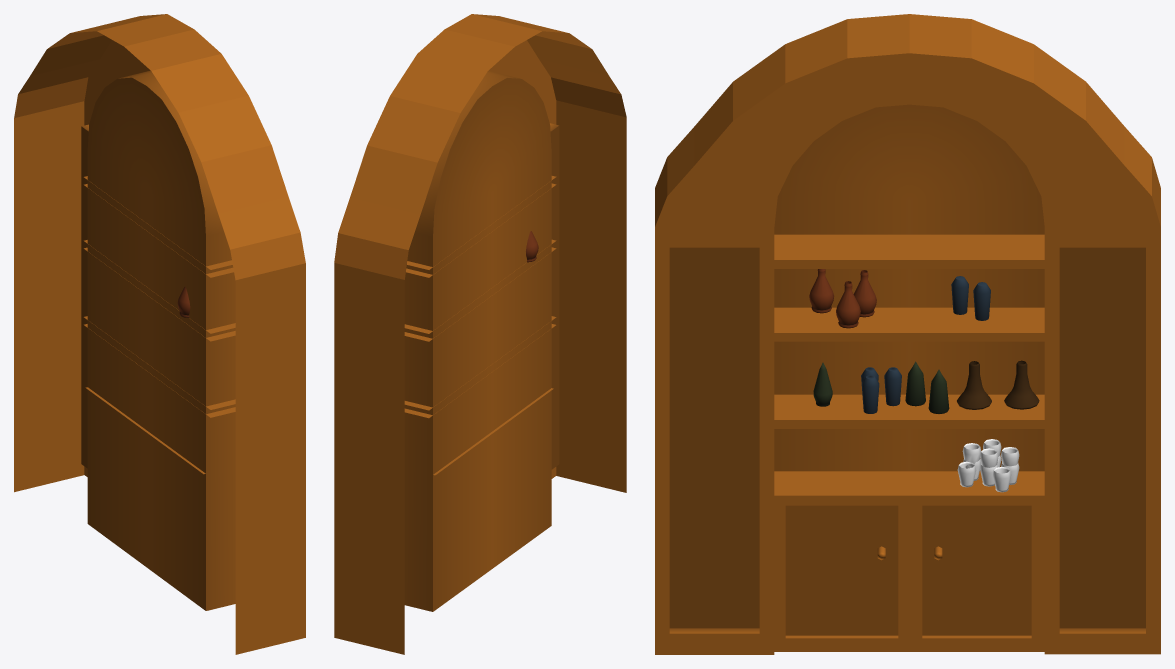
Rendered from BarWall.fbx.
3 views of the same model, side by side, from view 1: azimuth 30°, elevation 25°; view 2: azimuth 150°, elevation 25°; view 3: azimuth 270°, elevation 25° (orthographic). The views are drawn at different scales.
Visible parts, largest first — view 1: BarWall; view 2: BarWall; view 3: BarWall.
Boxes of the visible parts, x1,y1,x2,y2 form: BarWall: [14, 14, 305, 654]; BarWall: [334, 14, 626, 654]; BarWall: [655, 14, 1160, 654].
Bounding box in the file's own units: 1.21 × 8.59 × 6.55.
